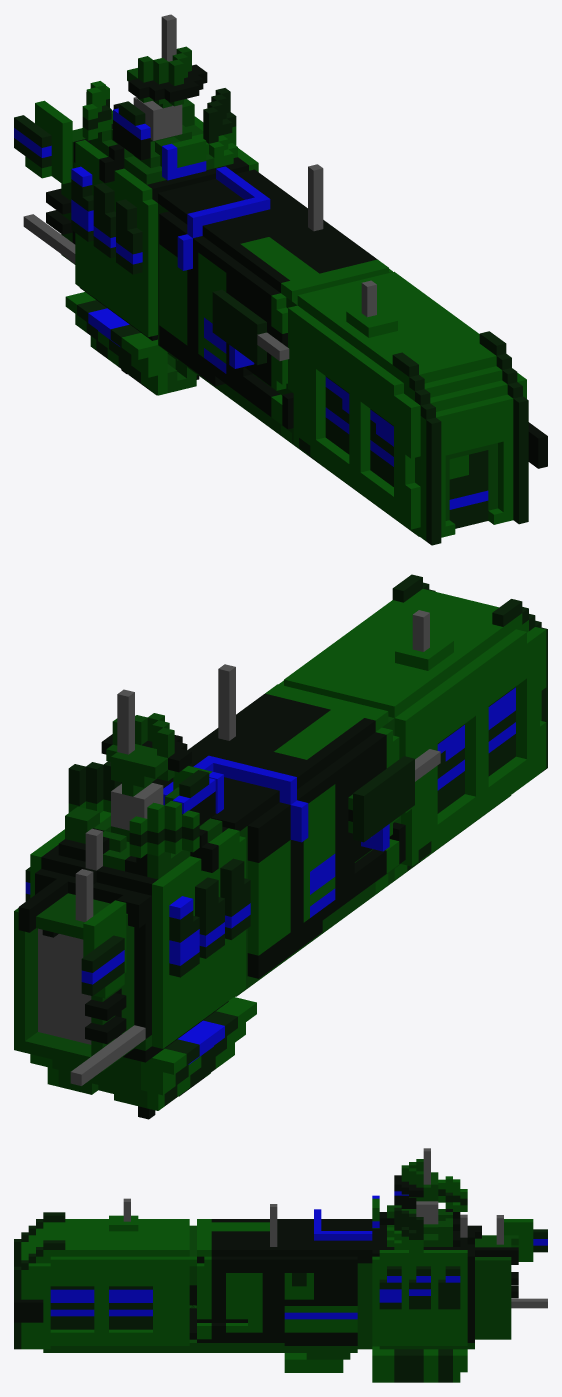
Rendered from ship4.fbx.
The picture shows the model from 3 angles, top to bottom: view 1: azimuth 30°, elevation 25°; view 2: azimuth 150°, elevation 25°; view 3: azimuth 270°, elevation 25°; orthographic projection. The views are drawn at different scales.
Parts seen in each view (by area): view 1: Cube.12548; view 2: Cube.12548; view 3: Cube.12548.
Part boxes in pixels (x1,y1,x2,y2): Cube.12548: [14, 14, 547, 545]; Cube.12548: [14, 574, 547, 1119]; Cube.12548: [14, 1148, 547, 1382].
Bounding box in the file's own units: 1500 × 3500 × 7300.
